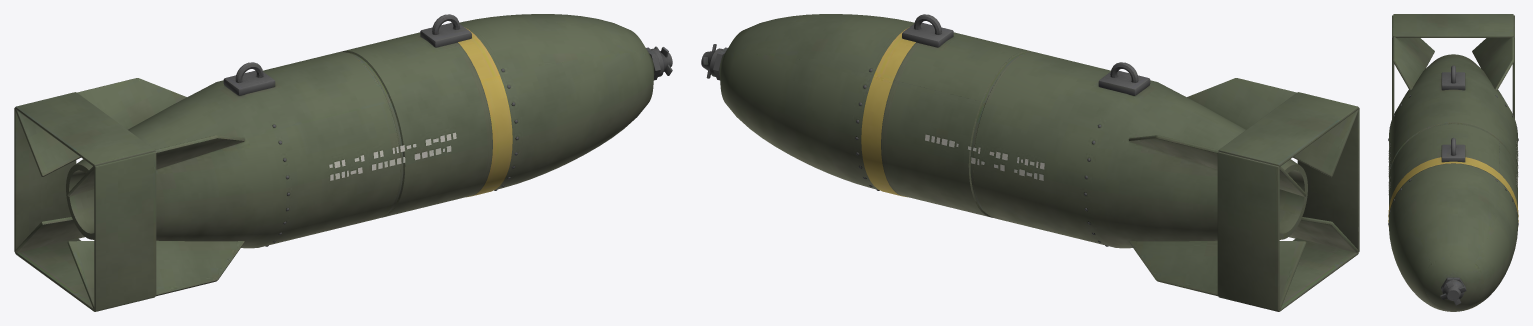
Rendered from bombs_2.glb.
3 renders of one model, left to right at view 1: azimuth 30°, elevation 25°; view 2: azimuth 150°, elevation 25°; view 3: azimuth 270°, elevation 25°, orthographic. The views are drawn at different scales.
Visible parts, largest first — view 1: bombs_2; view 2: bombs_2; view 3: bombs_2.
Boxes of the visible parts, left/top/right/bottom form: bombs_2: left=14, top=14, right=672, bottom=311; bombs_2: left=701, top=14, right=1359, bottom=311; bombs_2: left=1388, top=14, right=1518, bottom=311.
Bounding box in the file's own units: 0.53 × 0.1463 × 0.1294.
5 materials, 5 textured.
